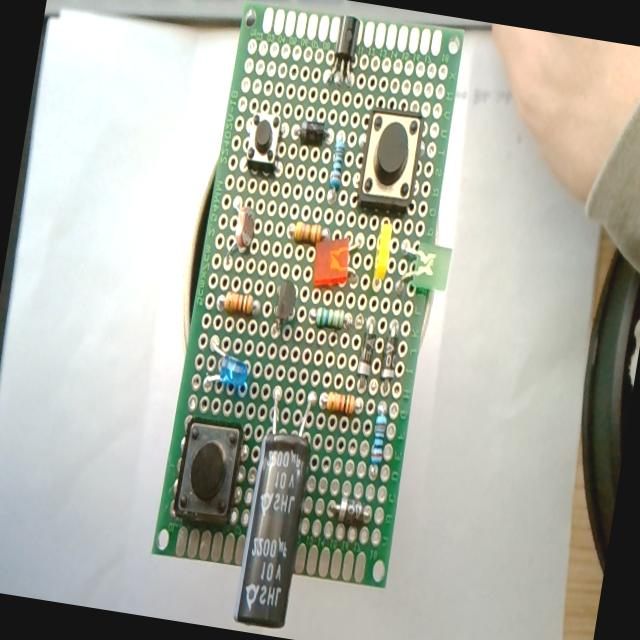Electrolytic capacitor: (232, 380, 322, 626)
cds: (220, 193, 264, 270)
diode: (324, 490, 380, 542), (380, 324, 403, 381), (356, 327, 378, 381), (297, 119, 332, 148)
led: (204, 339, 255, 397), (310, 232, 354, 292), (408, 241, 454, 294), (372, 220, 395, 283)
resistor: (368, 412, 389, 466), (328, 138, 348, 190), (292, 220, 324, 246), (223, 291, 254, 316), (314, 306, 346, 330), (324, 392, 356, 416)
switch: (172, 416, 247, 529), (356, 107, 425, 214), (245, 111, 284, 173)
transistor: (322, 16, 368, 91), (265, 274, 304, 340)
